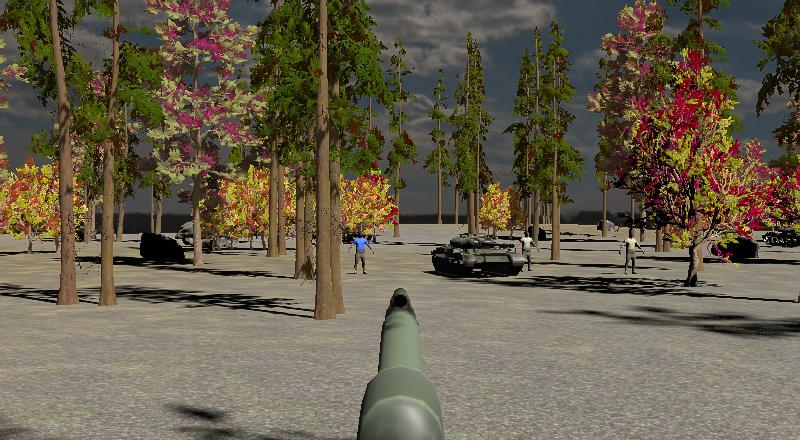Human: (347, 229, 375, 276), (618, 229, 644, 275), (518, 229, 539, 273)
Tank: (430, 231, 524, 280), (430, 231, 524, 279), (754, 225, 800, 248)
